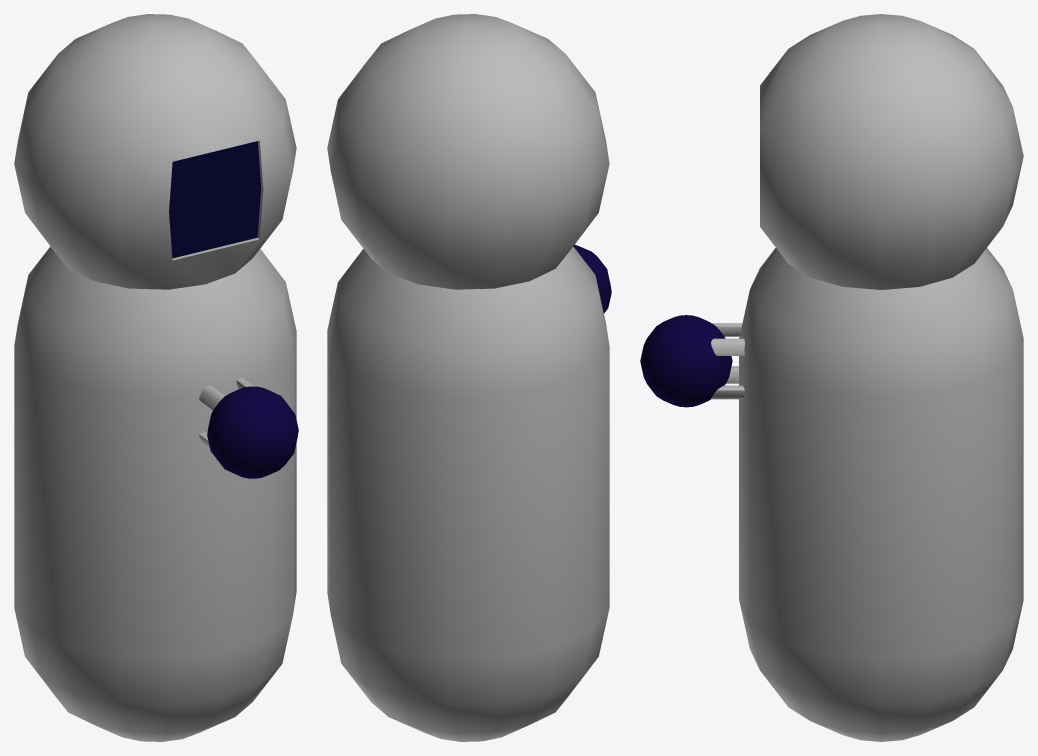
File: npc.fbx
The picture shows the model from 3 angles, left to right: view 1: azimuth 30°, elevation 25°; view 2: azimuth 150°, elevation 25°; view 3: azimuth 270°, elevation 25°; orthographic projection.
Parts seen in each view (by area): view 1: Sphere; view 2: Sphere; view 3: Sphere.
Boxes of the visible parts, x1,y1,x2,y2 form: Sphere: (14, 14, 298, 741); Sphere: (327, 14, 611, 741); Sphere: (640, 14, 1023, 741).
Bounding box in the file's own units: 200 × 544 × 269.
